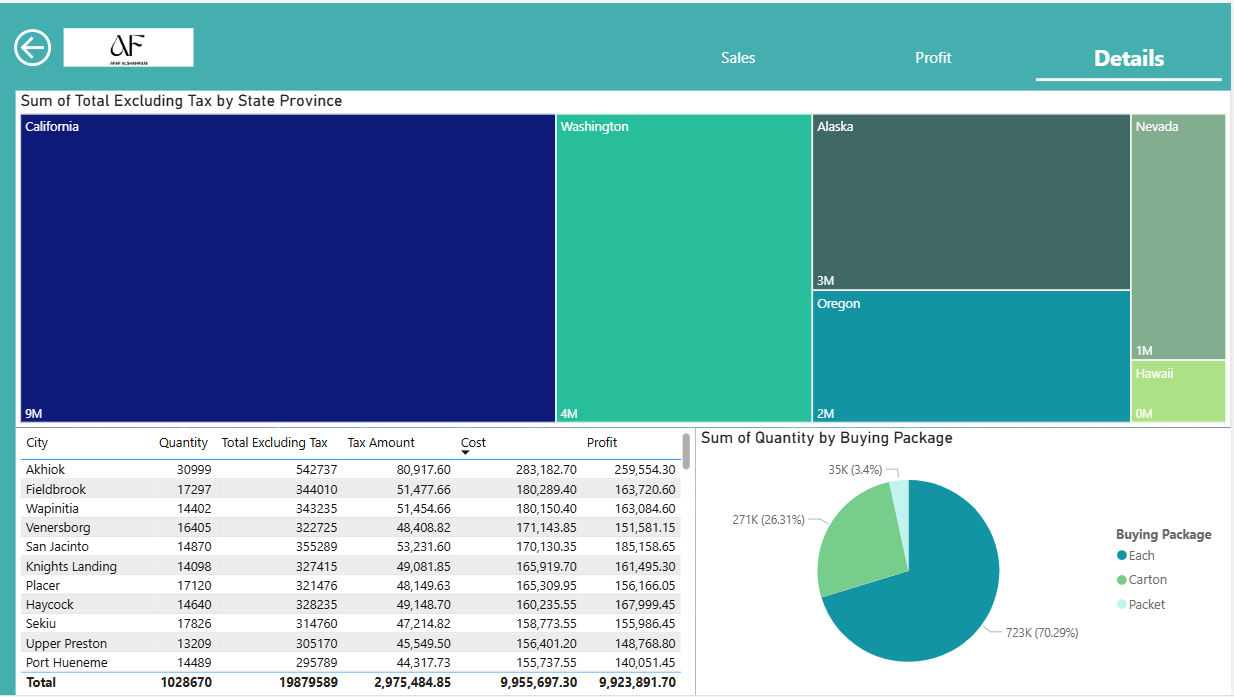

Layout of this report page (visuals, bound fields, positions):
{"tool":"powerbi","page":{"name":"Details","canvas":[1280,720],"ordinal":2},"visuals":[{"type":"shape","box":[0,0,1280,91.7],"z":0},{"type":"shape","box":[0,85.9,16.8,634.1],"z":1000},{"type":"image","box":[66.7,13.3,135,65],"z":2000},{"type":"actionButton","box":[8.3,21.7,58.3,50],"z":3000},{"type":"pageNavigator","box":[671.7,31.7,600,50],"z":4000},{"type":"treemap","fields":{"Group":["DimCity.State Province"],"Values":["Sum(FactSale.Total Excluding Tax)"]},"box":[16.7,91.7,1263.3,350],"z":5000},{"type":"tableEx","fields":{"Values":["DimCity.City","Sum(FactSale.Quantity)","Sum(FactSale.Total Excluding Tax)","Sum(FactSale.Tax Amount)","Sum(FactSale.Cost)","Sum(FactSale.Profit)"]},"box":[16.7,441.7,706.7,278.3],"z":6000},{"type":"pieChart","fields":{"Category":["DimStockItem.Buying Package"],"Y":["Sum(FactSale.Quantity)"]},"box":[723.3,441.7,556.7,278.3],"z":7000}]}

Visuals, with their boxes in screenshot pixels (x1, y1, x2, y2), scaled from the page's 1280x720 canvas onto the 1234x697 screenshot:
shape: [0,0,1233,89]
shape: [0,83,16,696]
image: [64,13,194,76]
actionButton: [8,21,64,69]
pageNavigator: [648,31,1226,79]
treemap - DimCity.State Province x Sum(FactSale.Total Excluding Tax): [16,89,1233,428]
tableEx - DimCity.City x Sum(FactSale.Quantity): [16,428,697,696]
pieChart - DimStockItem.Buying Package x Sum(FactSale.Quantity): [697,428,1233,696]
